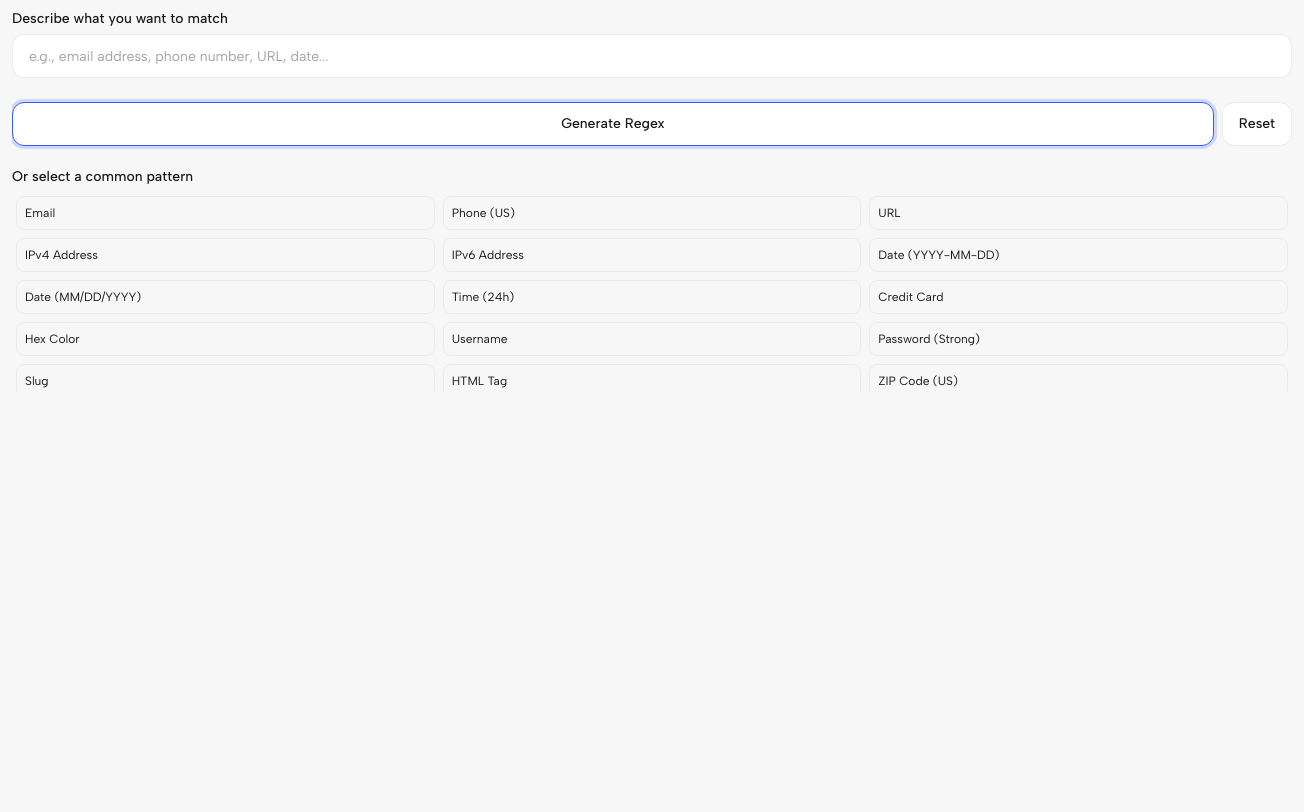
RegexGeneratorTool › selects common pattern when button is clicked
This screenshot has width=1304, height=812.
What coordinates should you click on to do the following:
click the button "Email"
I would click on:
 (40, 213)
Its box is top-left (16, 196), bottom-right (435, 230).
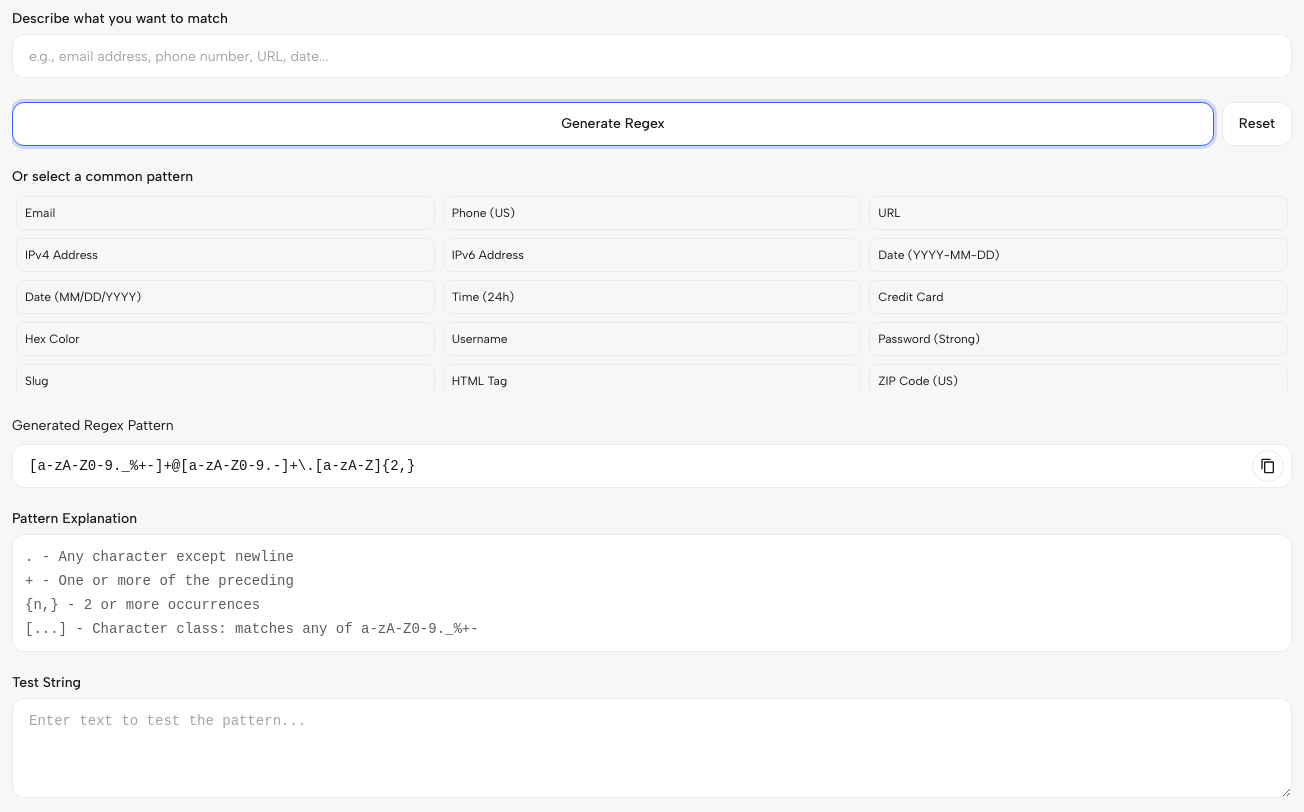
Expected: the text "Generated Regex Pattern" is shown, top-left (12, 417), bottom-right (174, 434)
Expected: the text "Pattern Explanation" is shown, top-left (12, 510), bottom-right (137, 527)
